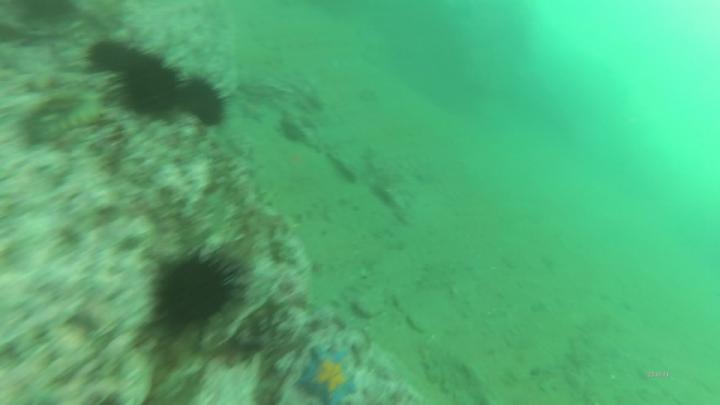echinus: (135, 241, 251, 339), (119, 52, 186, 116), (178, 74, 234, 131), (86, 37, 131, 73)
starfish: (294, 342, 362, 404)
